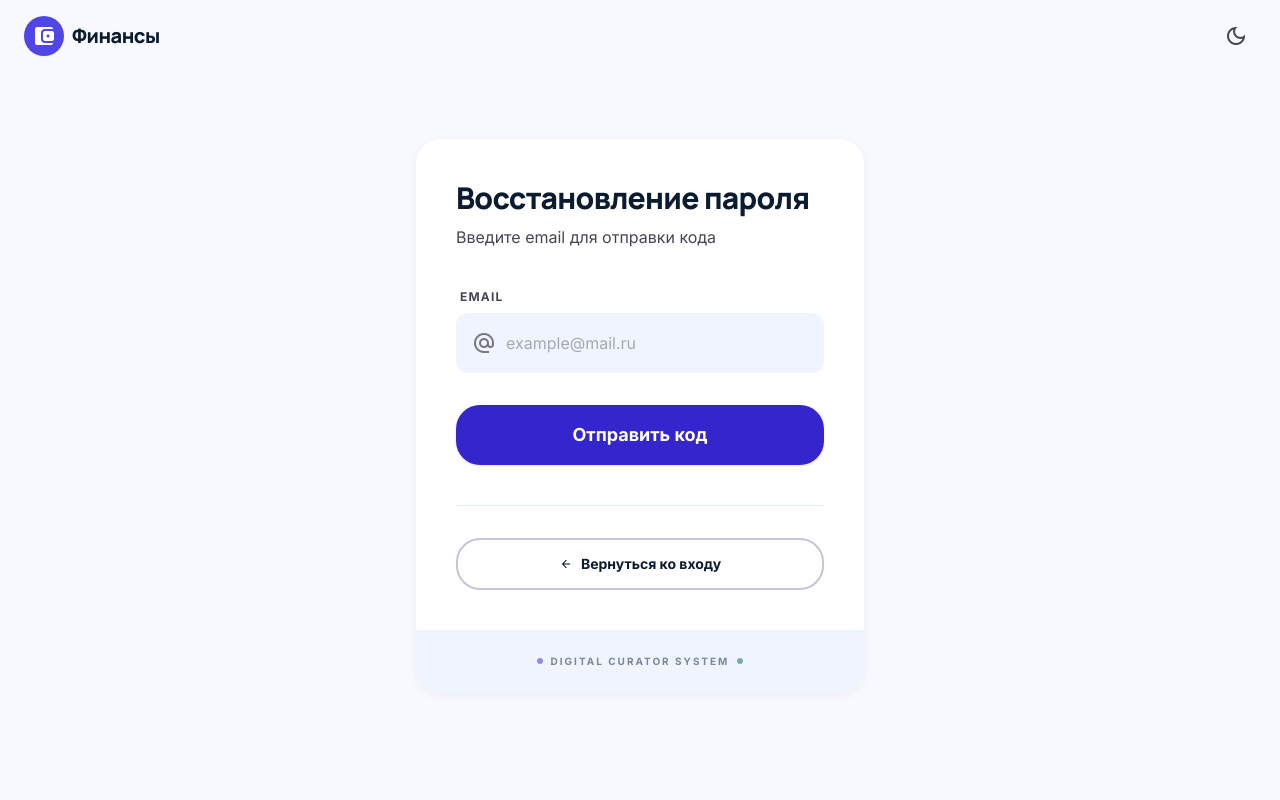
ForgotPassword › handles error on request step
Type "bad@mail.ru" into the field with placeholder "example@mail.ru" at (640, 343), box [456,313,824,373]
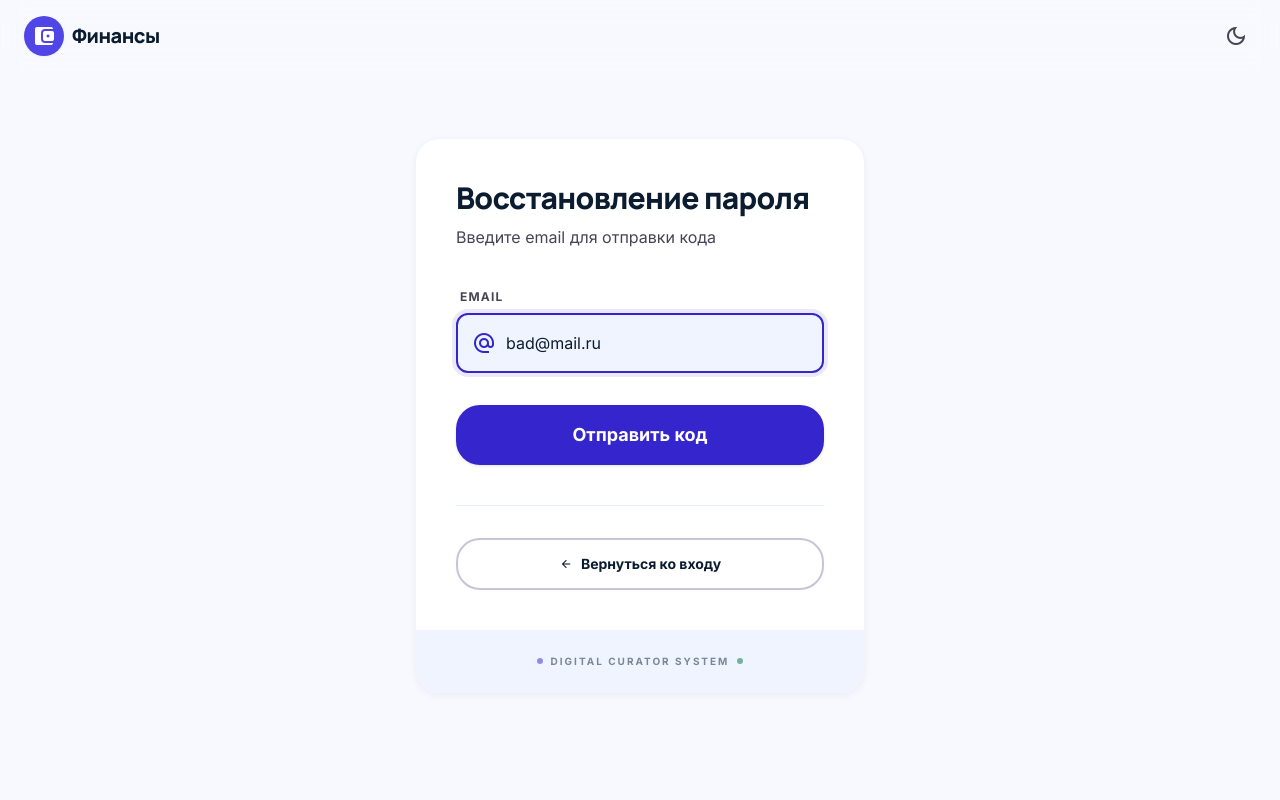
Click the button "Отправить код" at (640, 435), box [456,405,824,465]
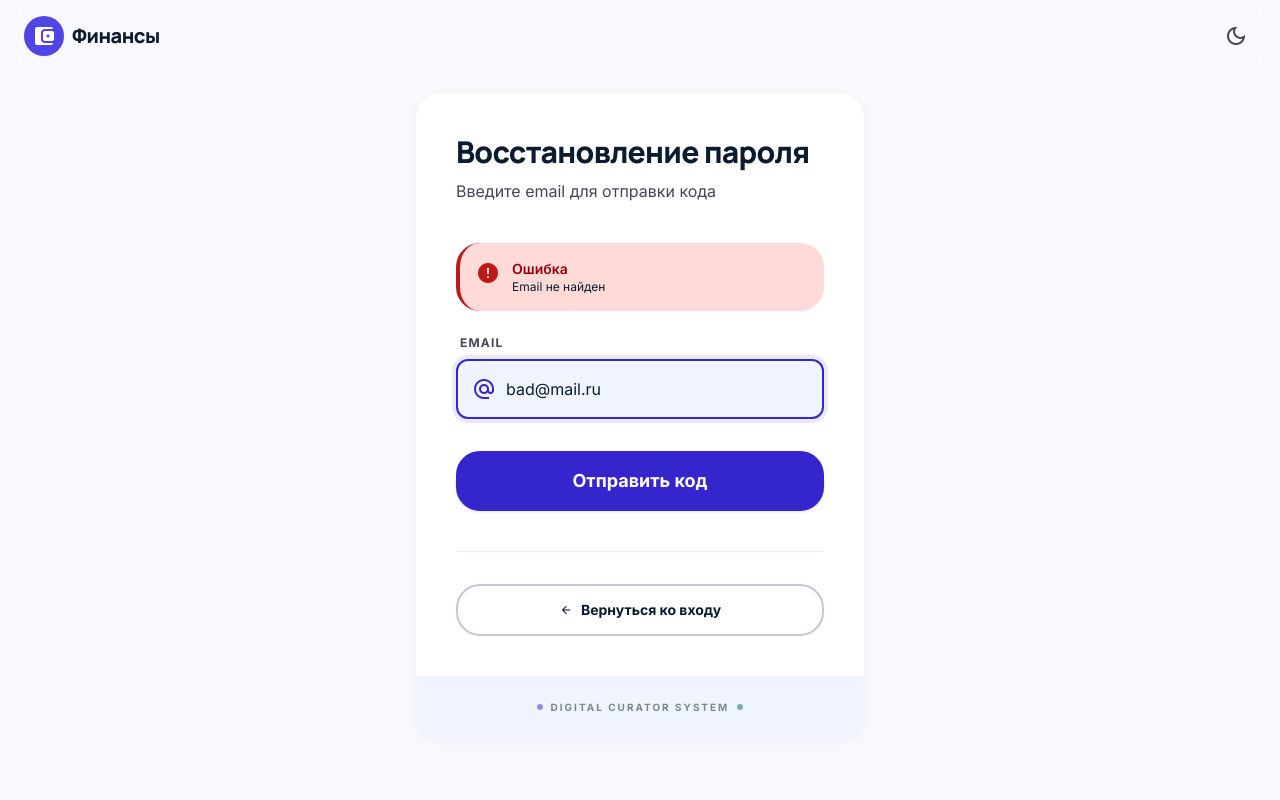
Result: the text "Email не найден" is shown at [512,279,605,295]
